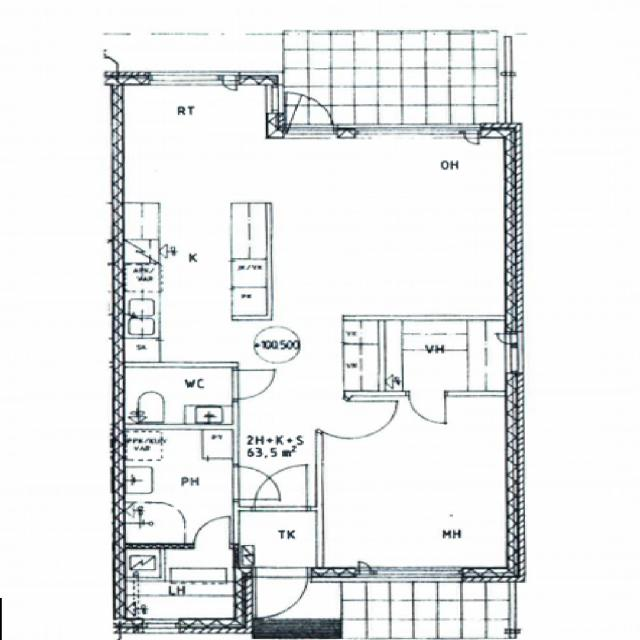door: (318, 395, 389, 450), (256, 567, 307, 622), (286, 85, 334, 138), (254, 464, 306, 512), (235, 467, 280, 499), (408, 391, 444, 426), (234, 370, 275, 399), (194, 516, 229, 549)
